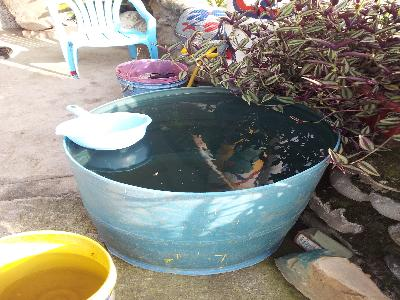bowl: (54, 113, 152, 151)
bucket: (64, 84, 345, 276), (112, 57, 190, 100)
